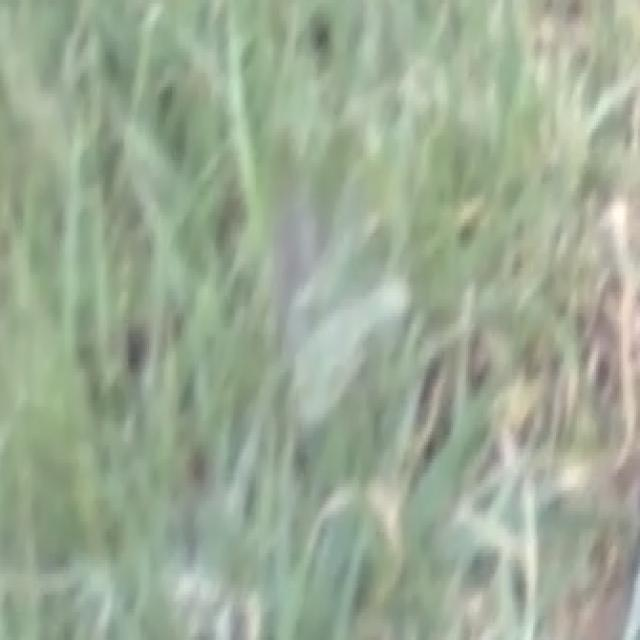organic waste: (233, 222, 452, 454)
